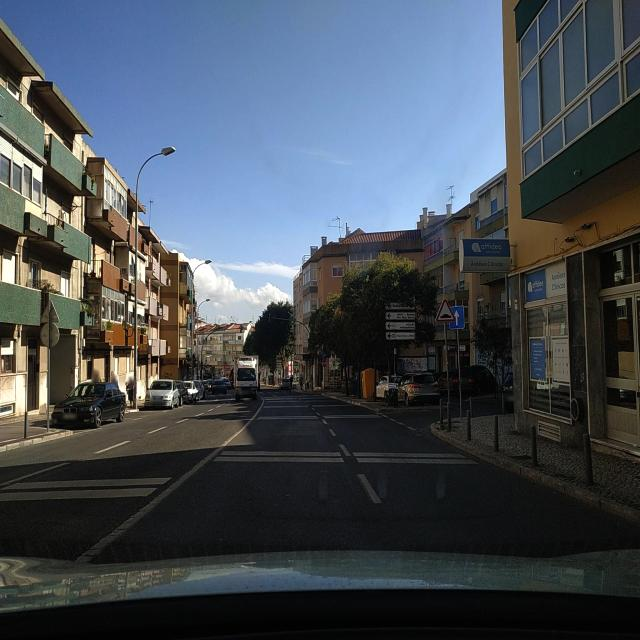car: (49, 380, 126, 430), (452, 363, 497, 398), (396, 371, 440, 406), (145, 379, 182, 409), (373, 374, 403, 404), (502, 370, 514, 412), (437, 370, 457, 394), (182, 380, 200, 402), (174, 380, 189, 404), (192, 380, 206, 400), (210, 378, 227, 394), (200, 380, 209, 396), (280, 377, 291, 390)
